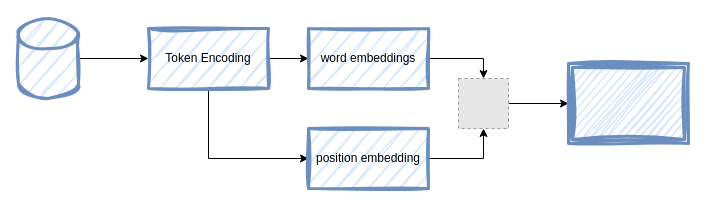
This 707x207 diagram has some shape labels left out. Grey dashed boxes stand in for pictures. The shapes that lost their labels are listed below. From the top down, each one's centre as x and y in pixels, then its label:
(x=48, y=58): Text Corpus
(x=628, y=103): Input embedding
